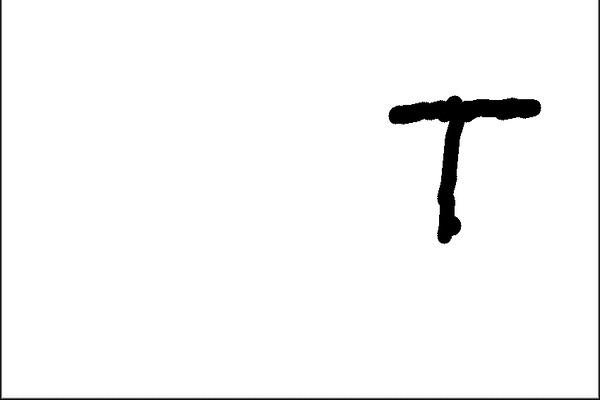T: (382, 83, 546, 240)
